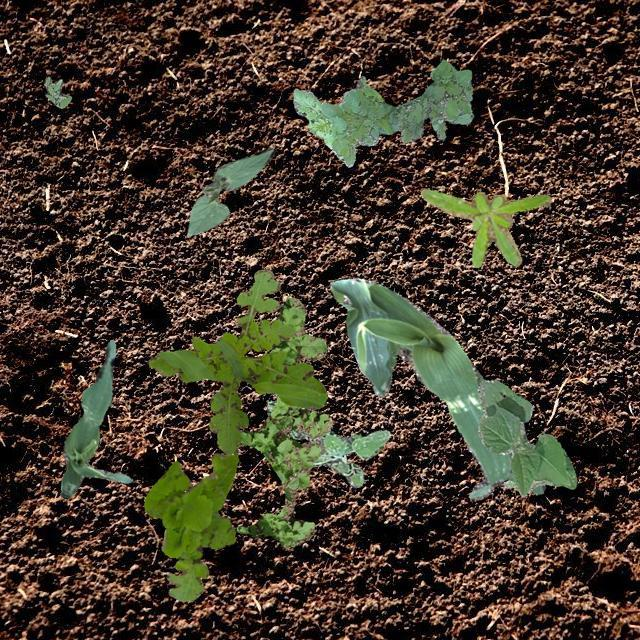crop: (330, 276, 544, 498), (476, 378, 576, 496), (60, 339, 132, 496), (186, 147, 274, 235)
weed: (147, 268, 326, 454), (236, 296, 332, 548), (292, 58, 472, 165), (142, 450, 238, 600), (266, 399, 390, 486), (420, 188, 550, 266), (44, 76, 70, 108), (502, 478, 514, 486)
